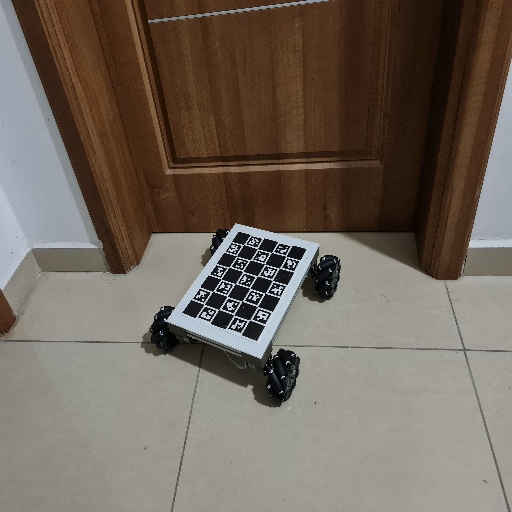Omniwheel: (147, 222, 342, 406)
